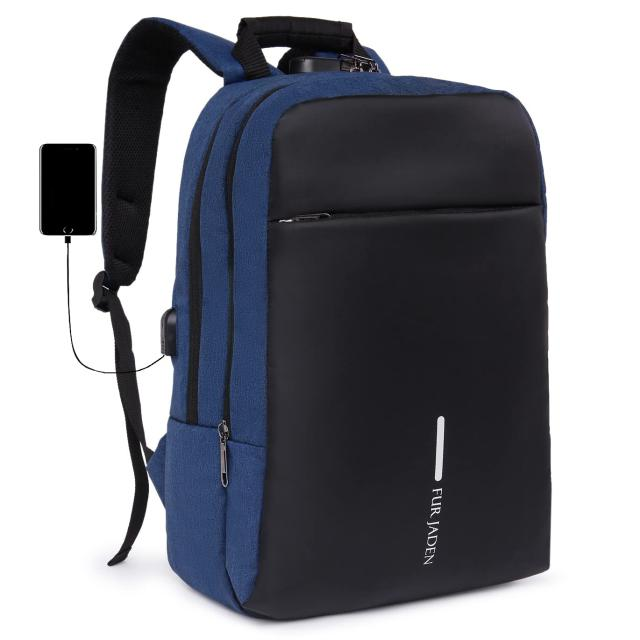backpack: (92, 15, 553, 622)
